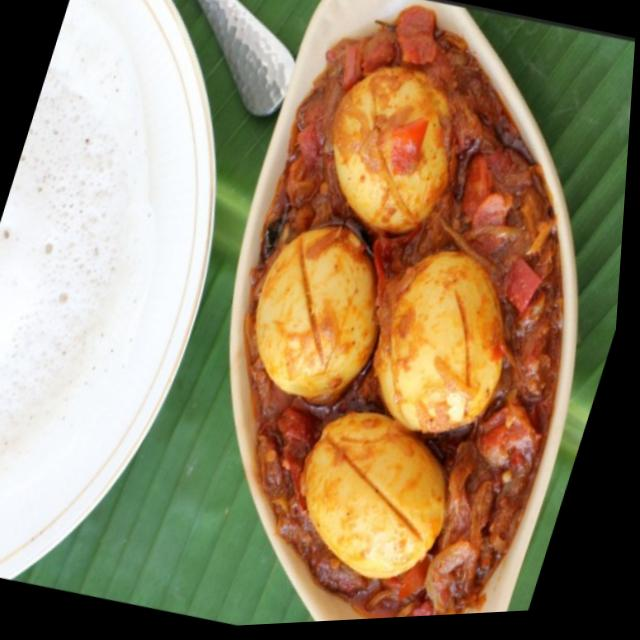EGG: (129, 0, 635, 621)
